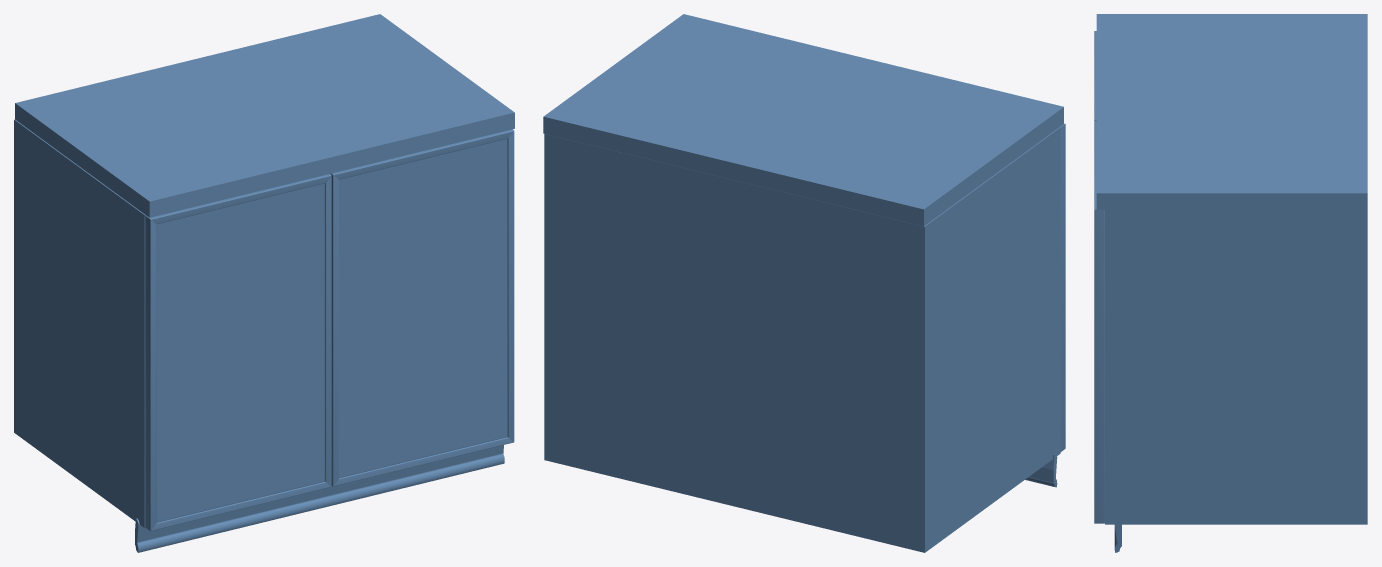
File: c_bottom.gltf
3 renders of one model, left to right at view 1: azimuth 30°, elevation 25°; view 2: azimuth 150°, elevation 25°; view 3: azimuth 270°, elevation 25°, orthographic. The views are drawn at different scales.
Parts seen in each view (by area): view 1: Box8222915, Box8222913, Box8222912, Rectangle040, Rectangle067, Rectangle066, SPR-5052; view 2: Rectangle040, Box8222915, Rectangle067; view 3: Rectangle040, Box8222915, Rectangle066.
Part boxes in pixels (x1,y1,x2,y2): Box8222915: [15, 14, 514, 217]; Box8222913: [156, 183, 324, 521]; Box8222912: [339, 139, 507, 477]; Rectangle040: [14, 119, 145, 528]; Rectangle067: [145, 174, 331, 530]; Rectangle066: [330, 129, 514, 486]; SPR-5052: [135, 445, 504, 552]; Rectangle040: [544, 127, 1060, 552]; Box8222915: [543, 14, 1063, 226]; Rectangle067: [1060, 123, 1065, 451]; Rectangle040: [1105, 209, 1367, 524]; Box8222915: [1096, 14, 1367, 209]; Rectangle066: [1094, 120, 1104, 523].
Bounding box in the file's own units: 0.9458 × 0.8795 × 0.6055.
